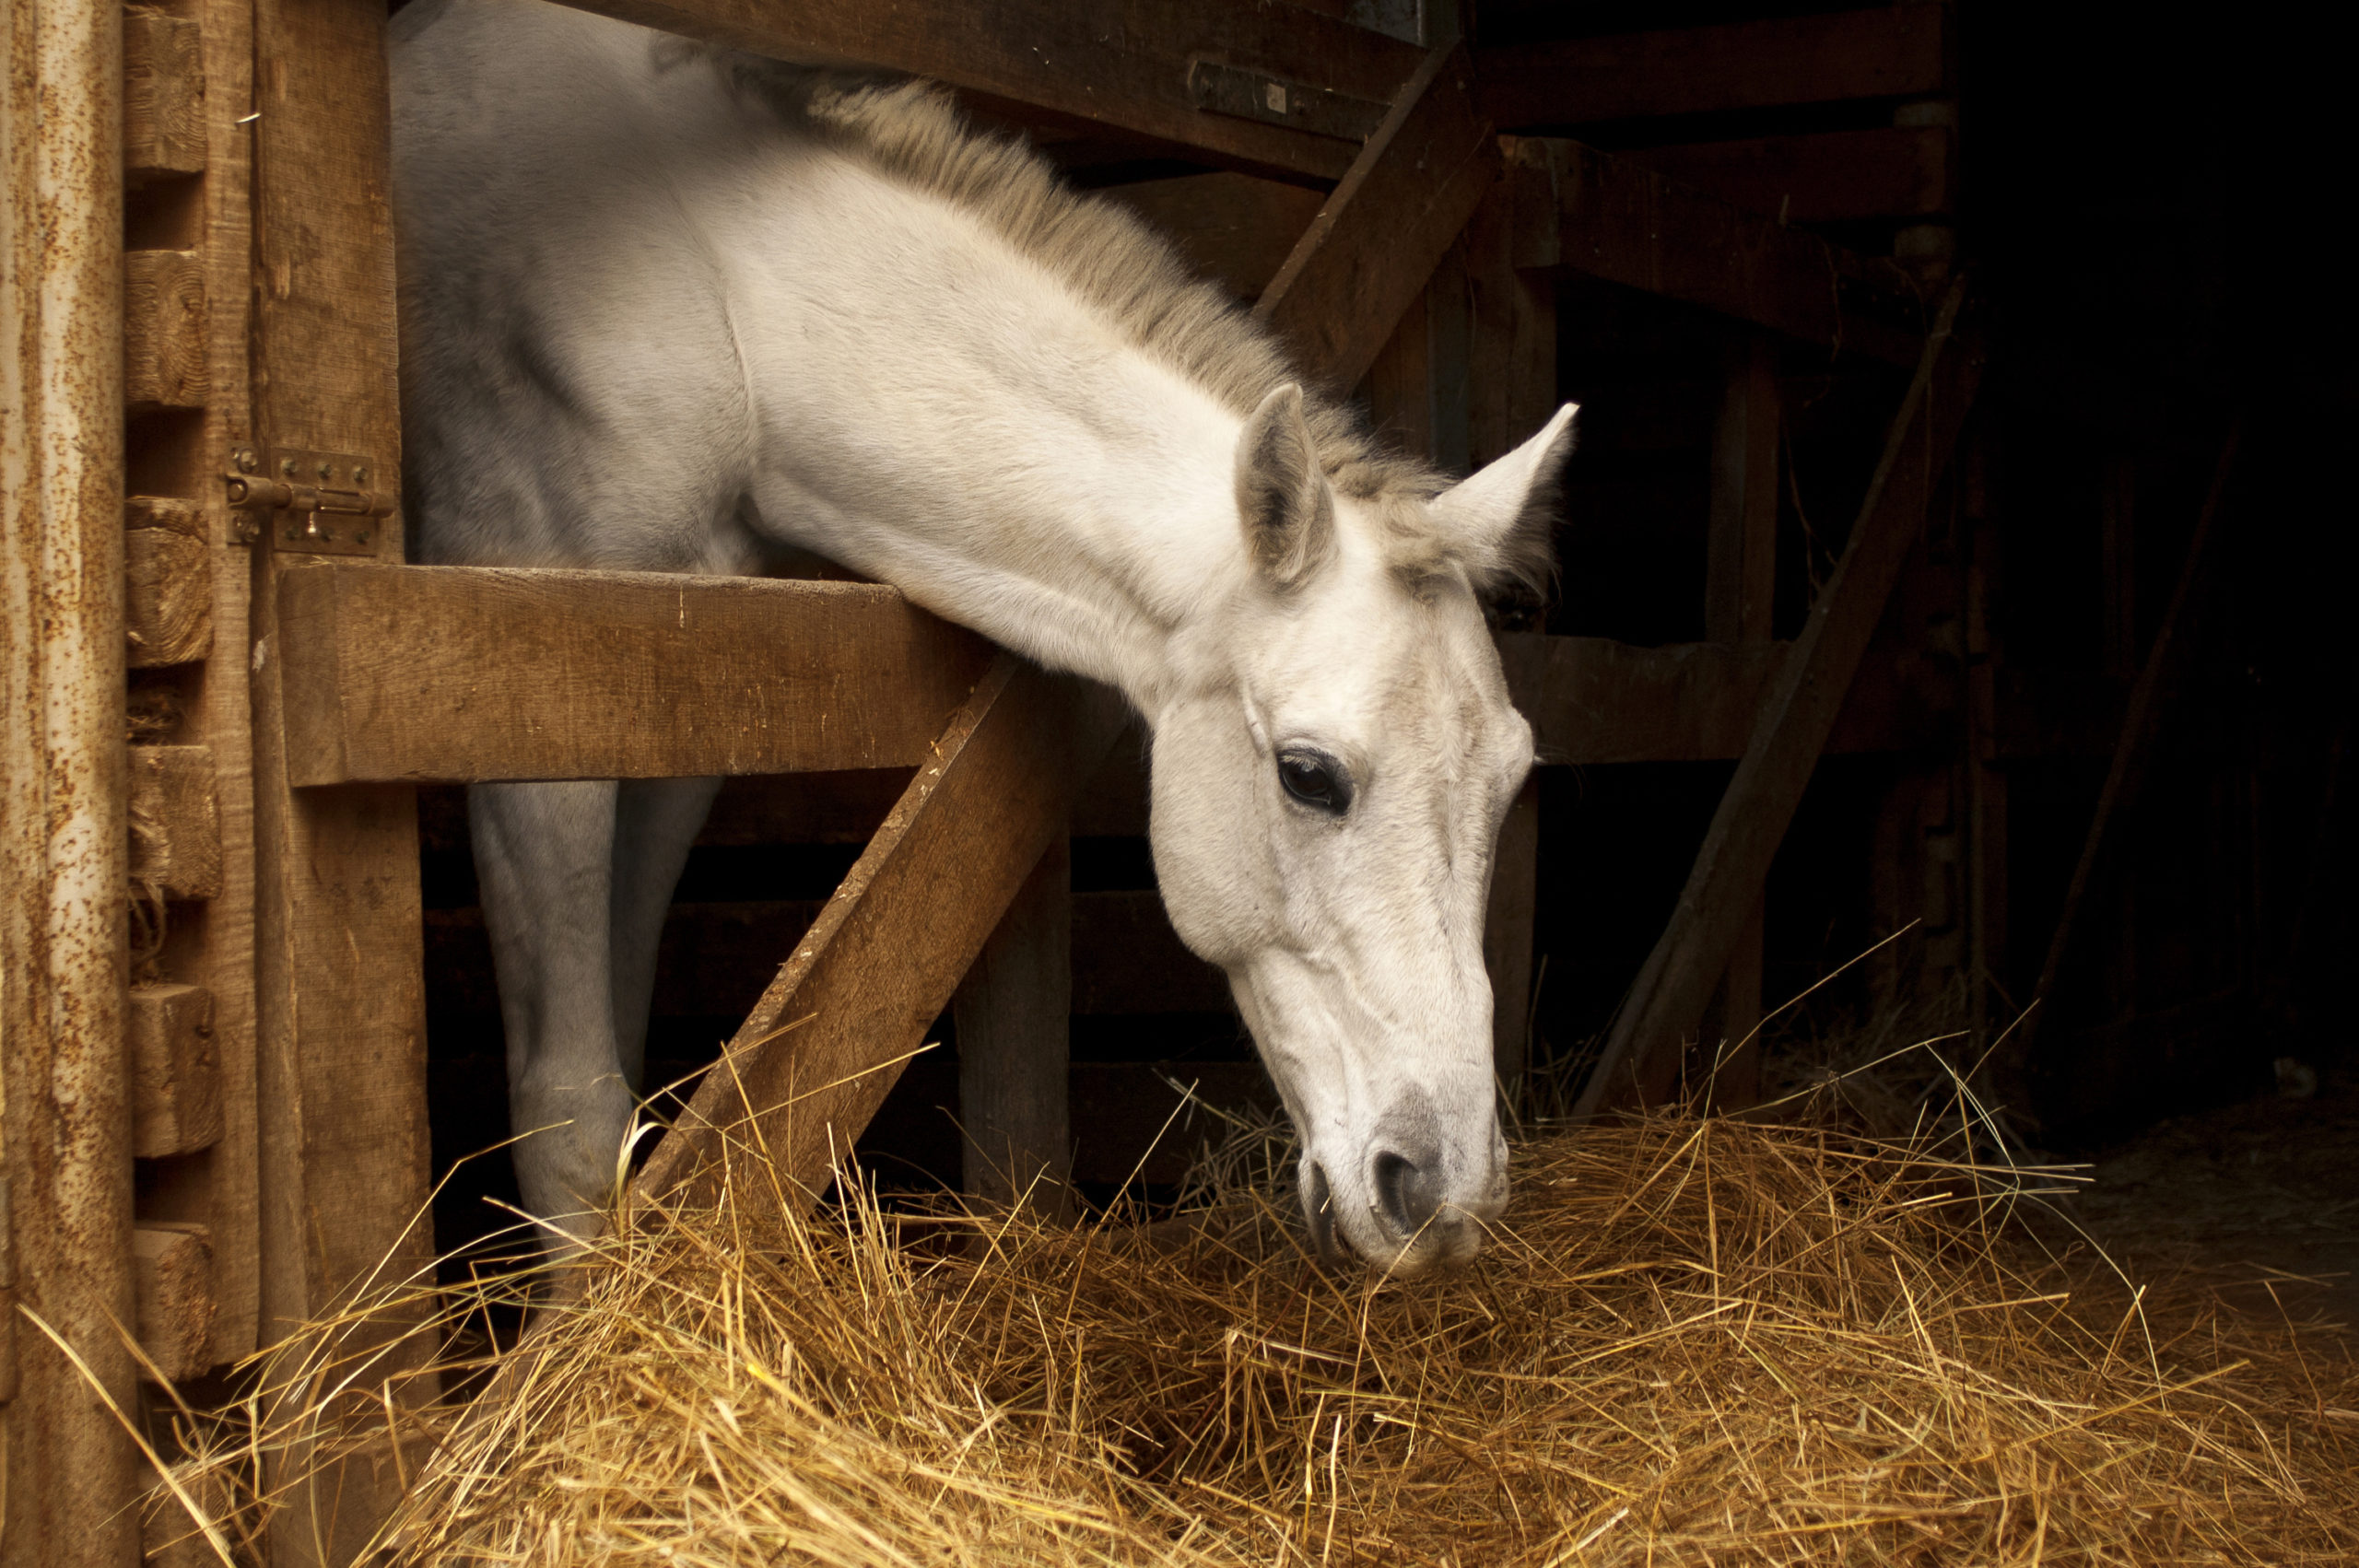Horse: (331, 73, 1668, 1349)
